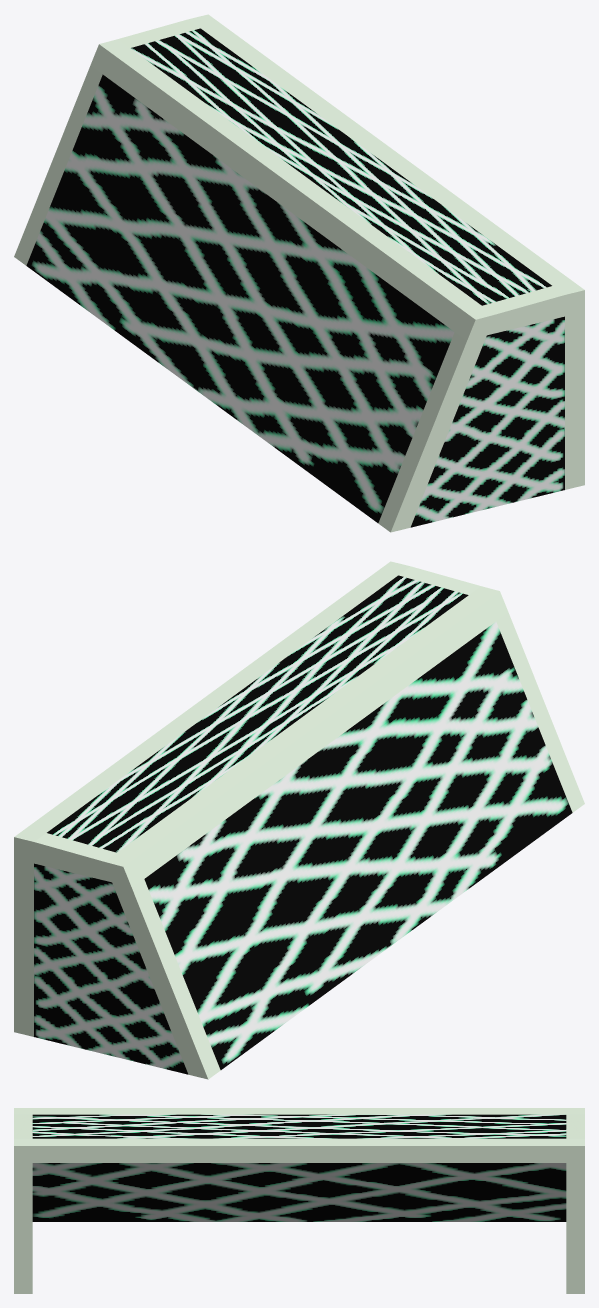
3 views of the same model, one above another, from view 1: azimuth 30°, elevation 25°; view 2: azimuth 150°, elevation 25°; view 3: azimuth 270°, elevation 25° (orthographic). The views are drawn at different scales.
Visible parts, largest first — view 1: 球门; view 2: 球门; view 3: 球门.
Boxes of the visible parts, <box> form: 球门: <box>14,14,584,532</box>; 球门: <box>14,561,584,1079</box>; 球门: <box>14,1108,584,1293</box>.
Size of the model in its own units: 2.09 by 2 by 7.
Materials: 1 (1 with a texture image).
